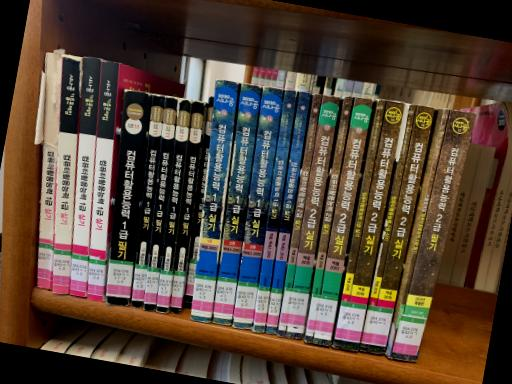book-spine: (394, 109, 477, 361), (369, 105, 434, 354), (341, 100, 404, 351), (313, 97, 373, 346), (390, 108, 449, 358), (361, 103, 416, 352), (285, 95, 339, 339), (334, 99, 385, 348), (233, 86, 284, 329), (213, 82, 262, 325), (306, 96, 353, 342), (191, 79, 238, 322), (266, 91, 312, 334), (253, 89, 297, 332), (278, 94, 322, 336), (106, 89, 151, 306), (87, 61, 120, 301), (156, 98, 192, 314), (144, 95, 179, 311), (70, 56, 101, 298), (170, 101, 205, 314), (132, 94, 165, 308), (53, 54, 82, 294), (38, 52, 63, 291), (185, 96, 214, 302)
